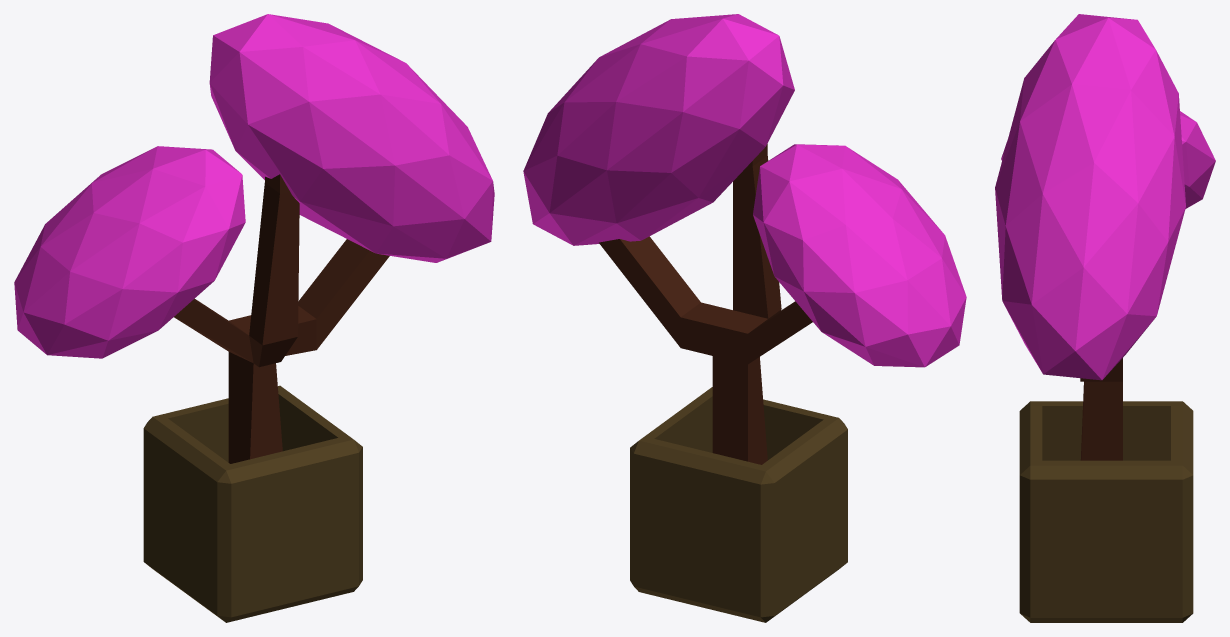
Rendered from Tree.glb.
3 renders of one model, left to right at view 1: azimuth 30°, elevation 25°; view 2: azimuth 150°, elevation 25°; view 3: azimuth 270°, elevation 25°, orthographic. The views are drawn at different scales.
Parts seen in each view (by area): view 1: TreeOfLife, TreeBox; view 2: TreeOfLife, TreeBox; view 3: TreeOfLife, TreeBox.
Part boxes in pixels (left/top/right/bottom): TreeOfLife: left=14, top=14, right=494, bottom=463; TreeBox: left=143, top=385, right=362, bottom=622; TreeOfLife: left=523, top=14, right=966, bottom=464; TreeBox: left=630, top=387, right=847, bottom=622; TreeOfLife: left=995, top=14, right=1215, bottom=460; TreeBox: left=1019, top=401, right=1193, bottom=622.
Bounding box in the file's own units: 0.6153 × 0.7381 × 0.2545.
